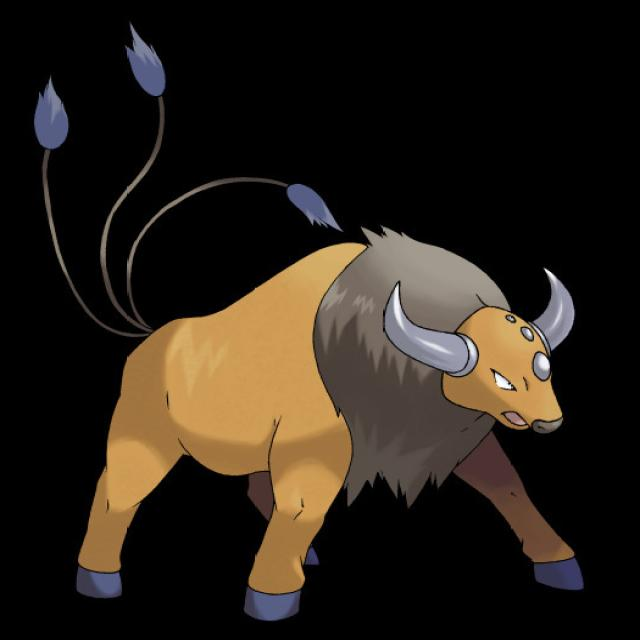Tauros: (72, 212, 607, 614)
